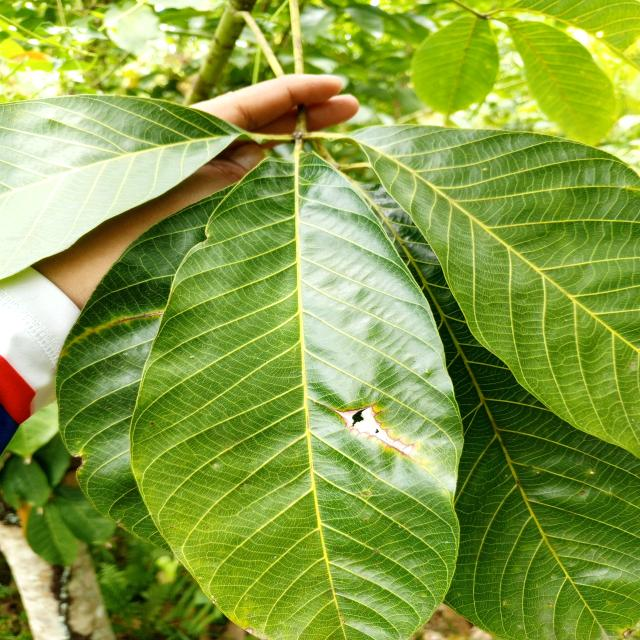Colletotrichum: (580, 490, 585, 496), (342, 620, 345, 623)
Corynespora: (330, 402, 414, 459)
